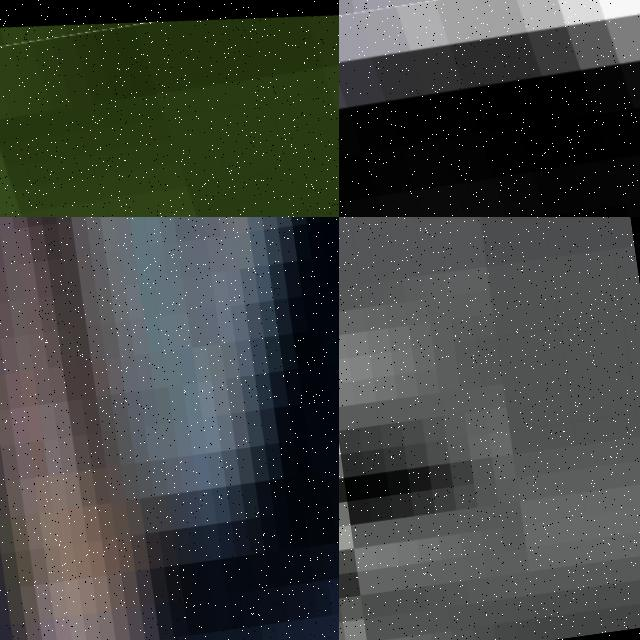drone: (0, 0, 339, 217), (339, 0, 640, 217)
